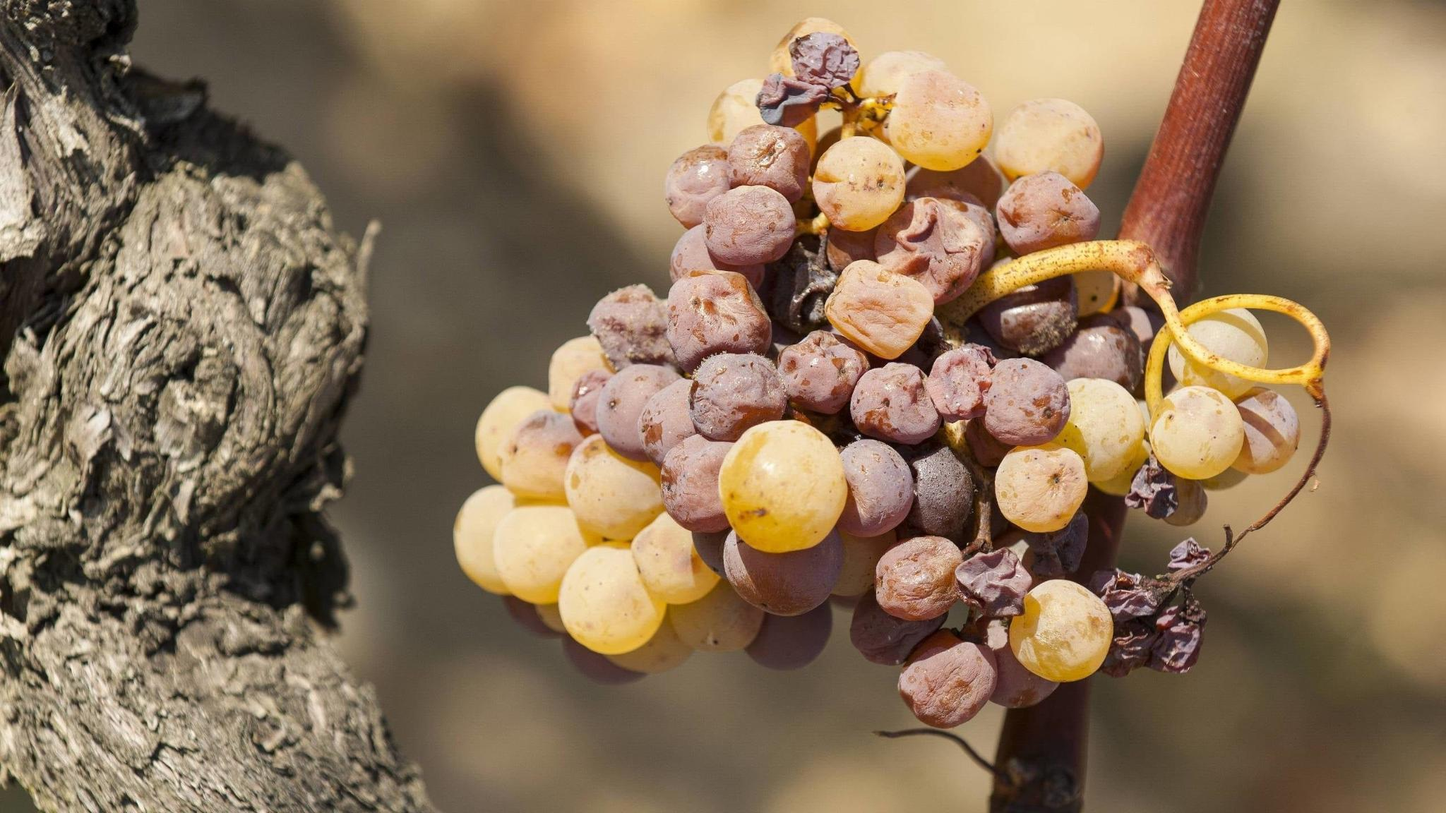Grape Rotten: (452, 16, 1330, 730)
